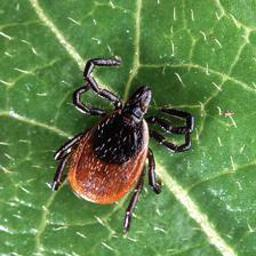Ixodes scapularis: (55, 56, 197, 229)
